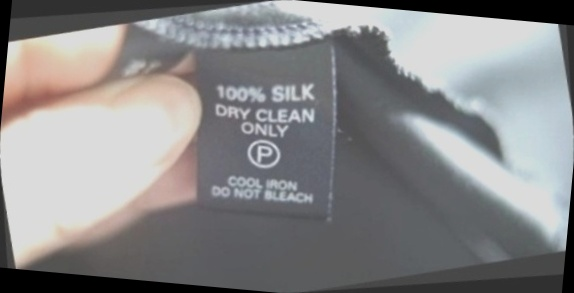dry_clean_any_solvent_except_trichloroethylene: (240, 129, 290, 177)
